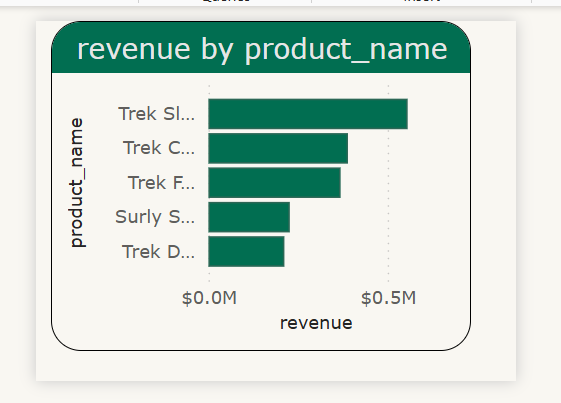

What the dashboard file says about the page in this screenshot:
{"tool":"powerbi","page":{"name":"Tooltip 1","canvas":[320,240],"ordinal":4},"visuals":[{"type":"barChart","fields":{"Y":["Table.revenue"],"Category":["Products.product_name"]},"box":[10,0,280,220],"z":0}]}

Visuals, with their boxes on the page's 320x240 design canvas (x1, y1, x2, y2). These are canvas units, not pixel positions in the 561x403 screenshot, which may show the page scaled, cropped or inside an application window:
barChart - Table.revenue x Products.product_name: [x1=10, y1=0, x2=290, y2=220]
